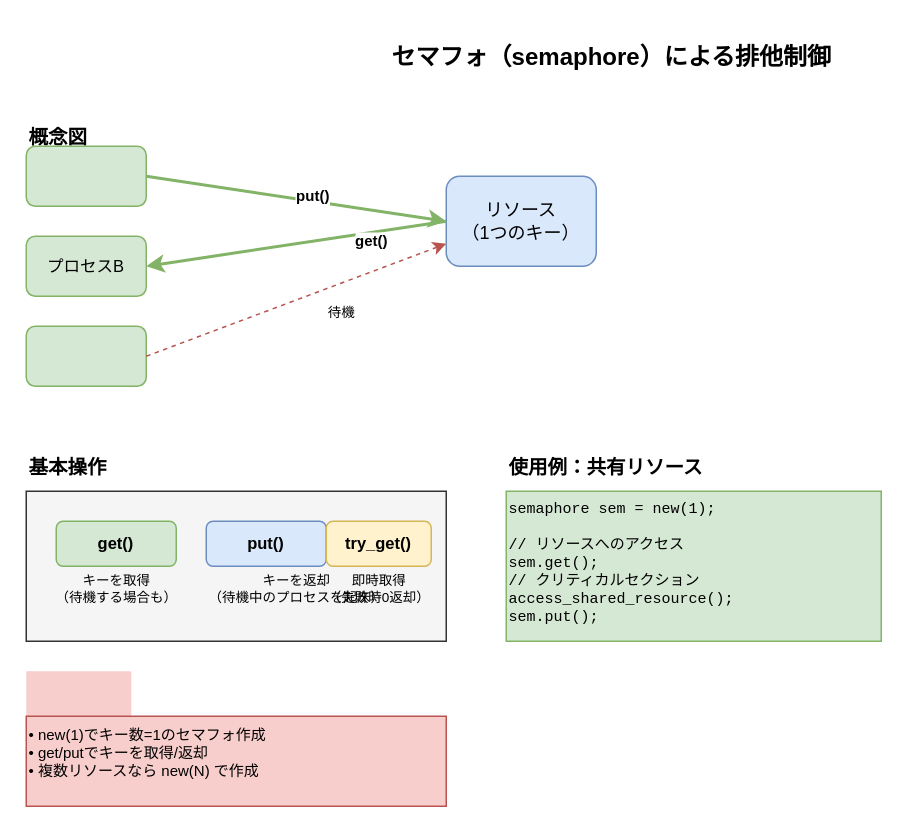
Image size: 923x833. Some labels were removed from this diagram. Each missing label, with the centre of its shape:
プロセスA: pixel 85 175
プロセスC: pixel 85 355
ポイント: pixel 78 693
